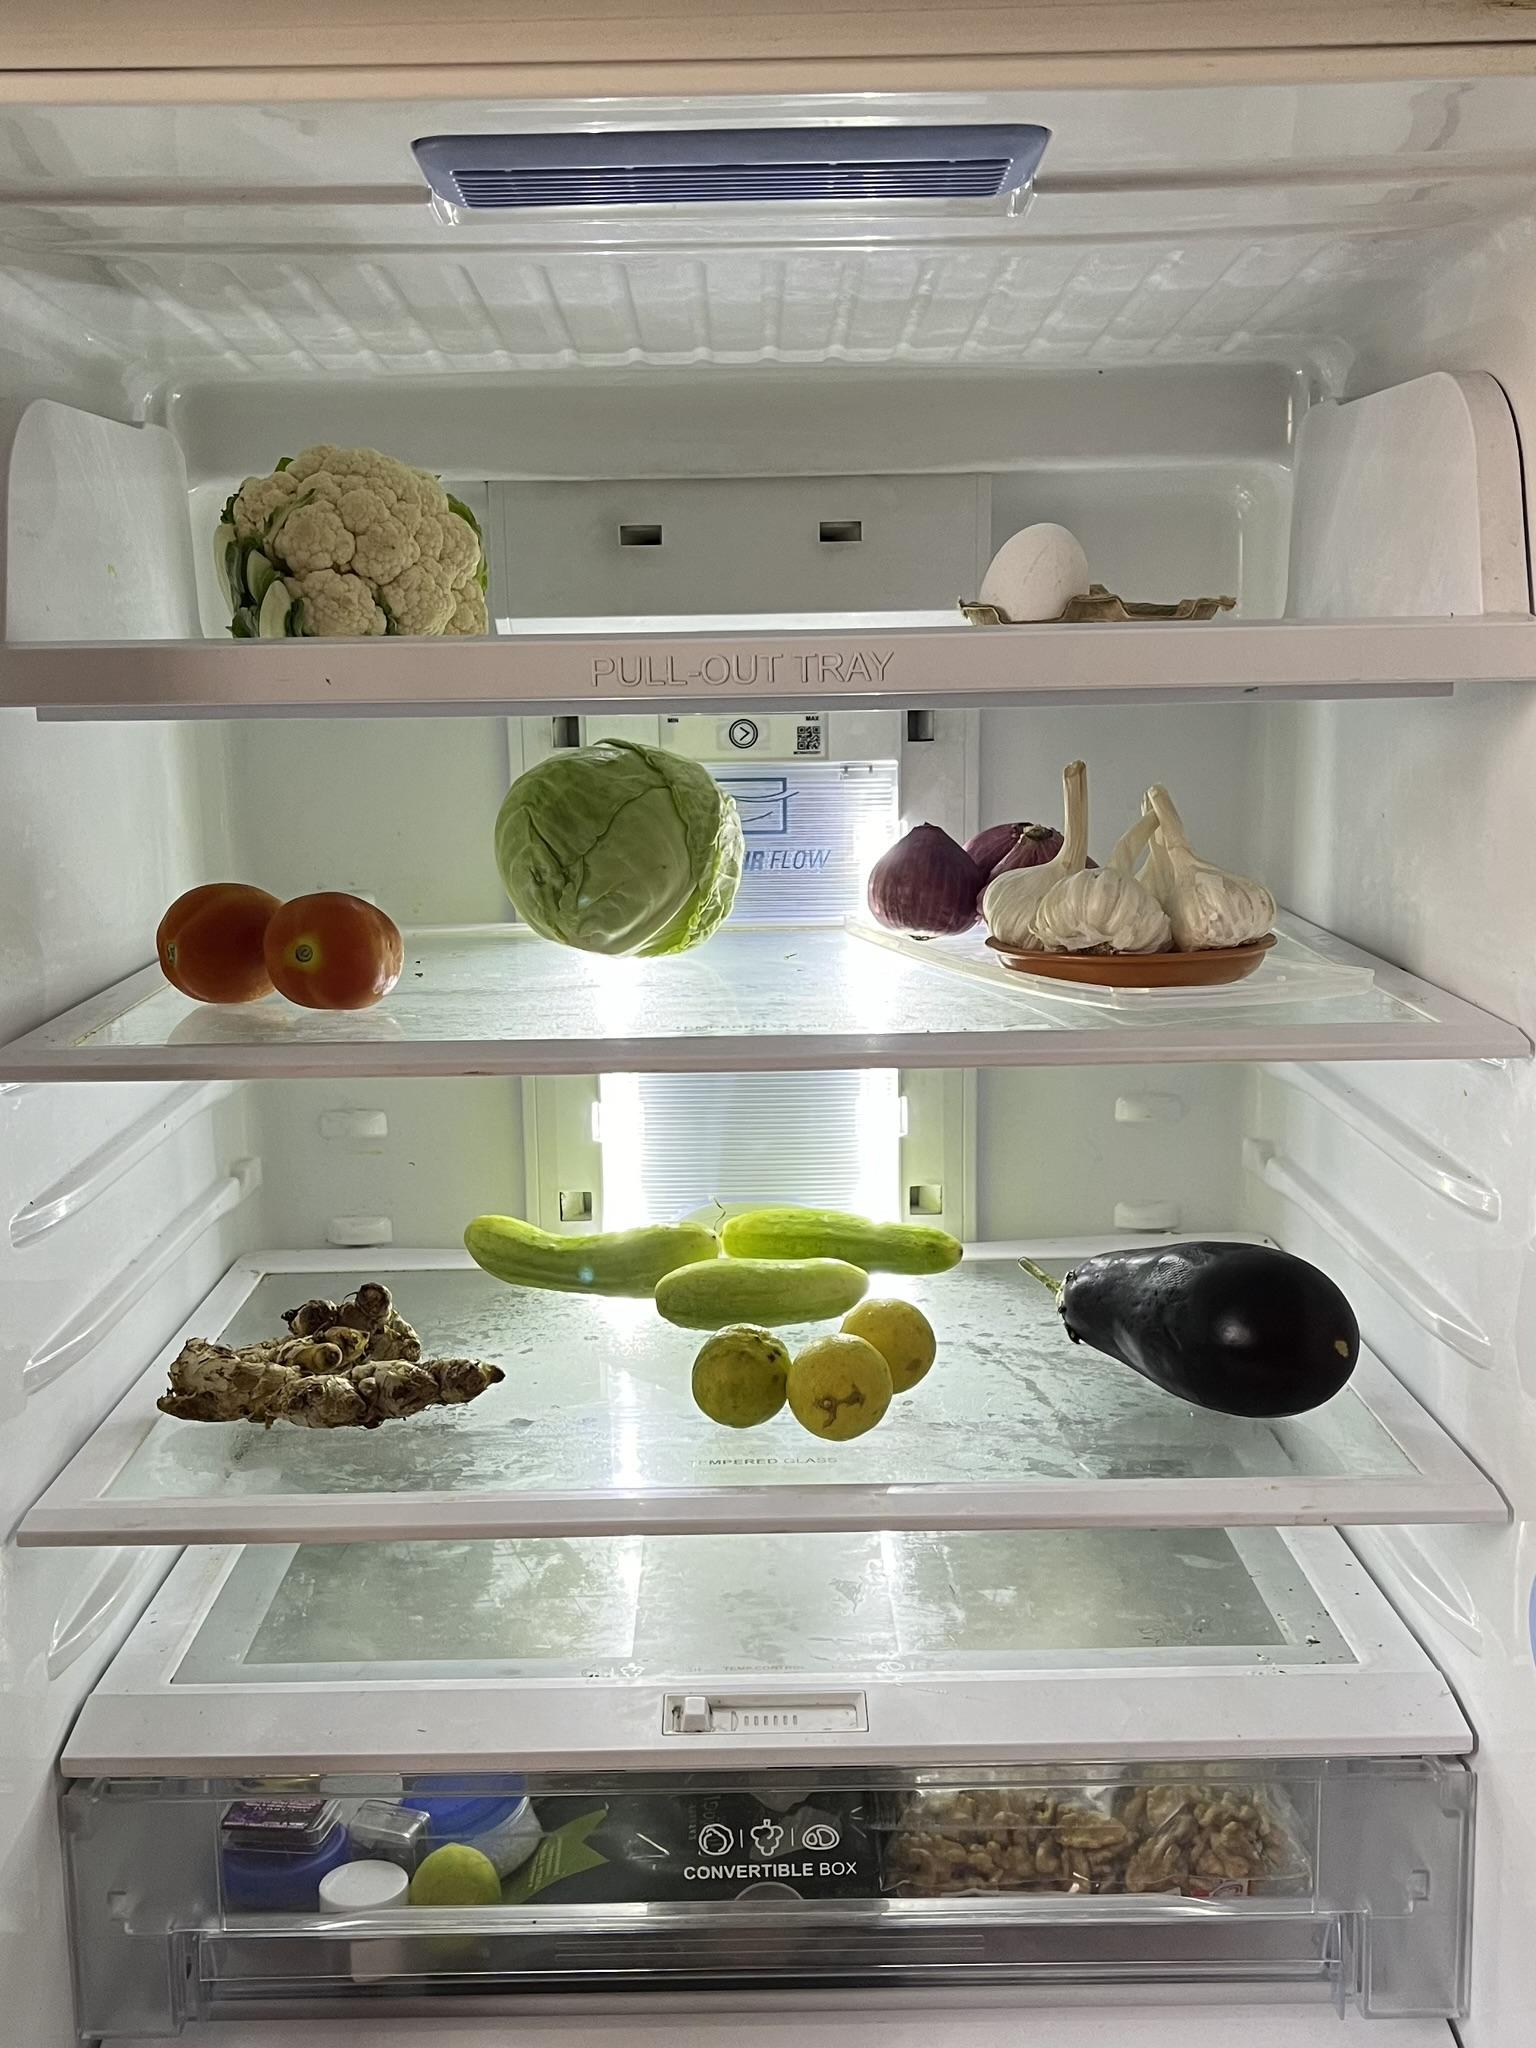cabbage: (487, 734, 747, 947)
cauliflower: (223, 443, 481, 650)
cucumber: (1013, 1240, 1370, 1424), (457, 1213, 741, 1297), (729, 1213, 976, 1277), (660, 1256, 891, 1321)
egg: (976, 513, 1097, 619)
garlic: (979, 763, 1291, 953)
ginger: (166, 1277, 507, 1424)
lemon: (687, 1303, 950, 1447)
onion: (854, 816, 1113, 937)
tomato: (150, 884, 410, 1013)
